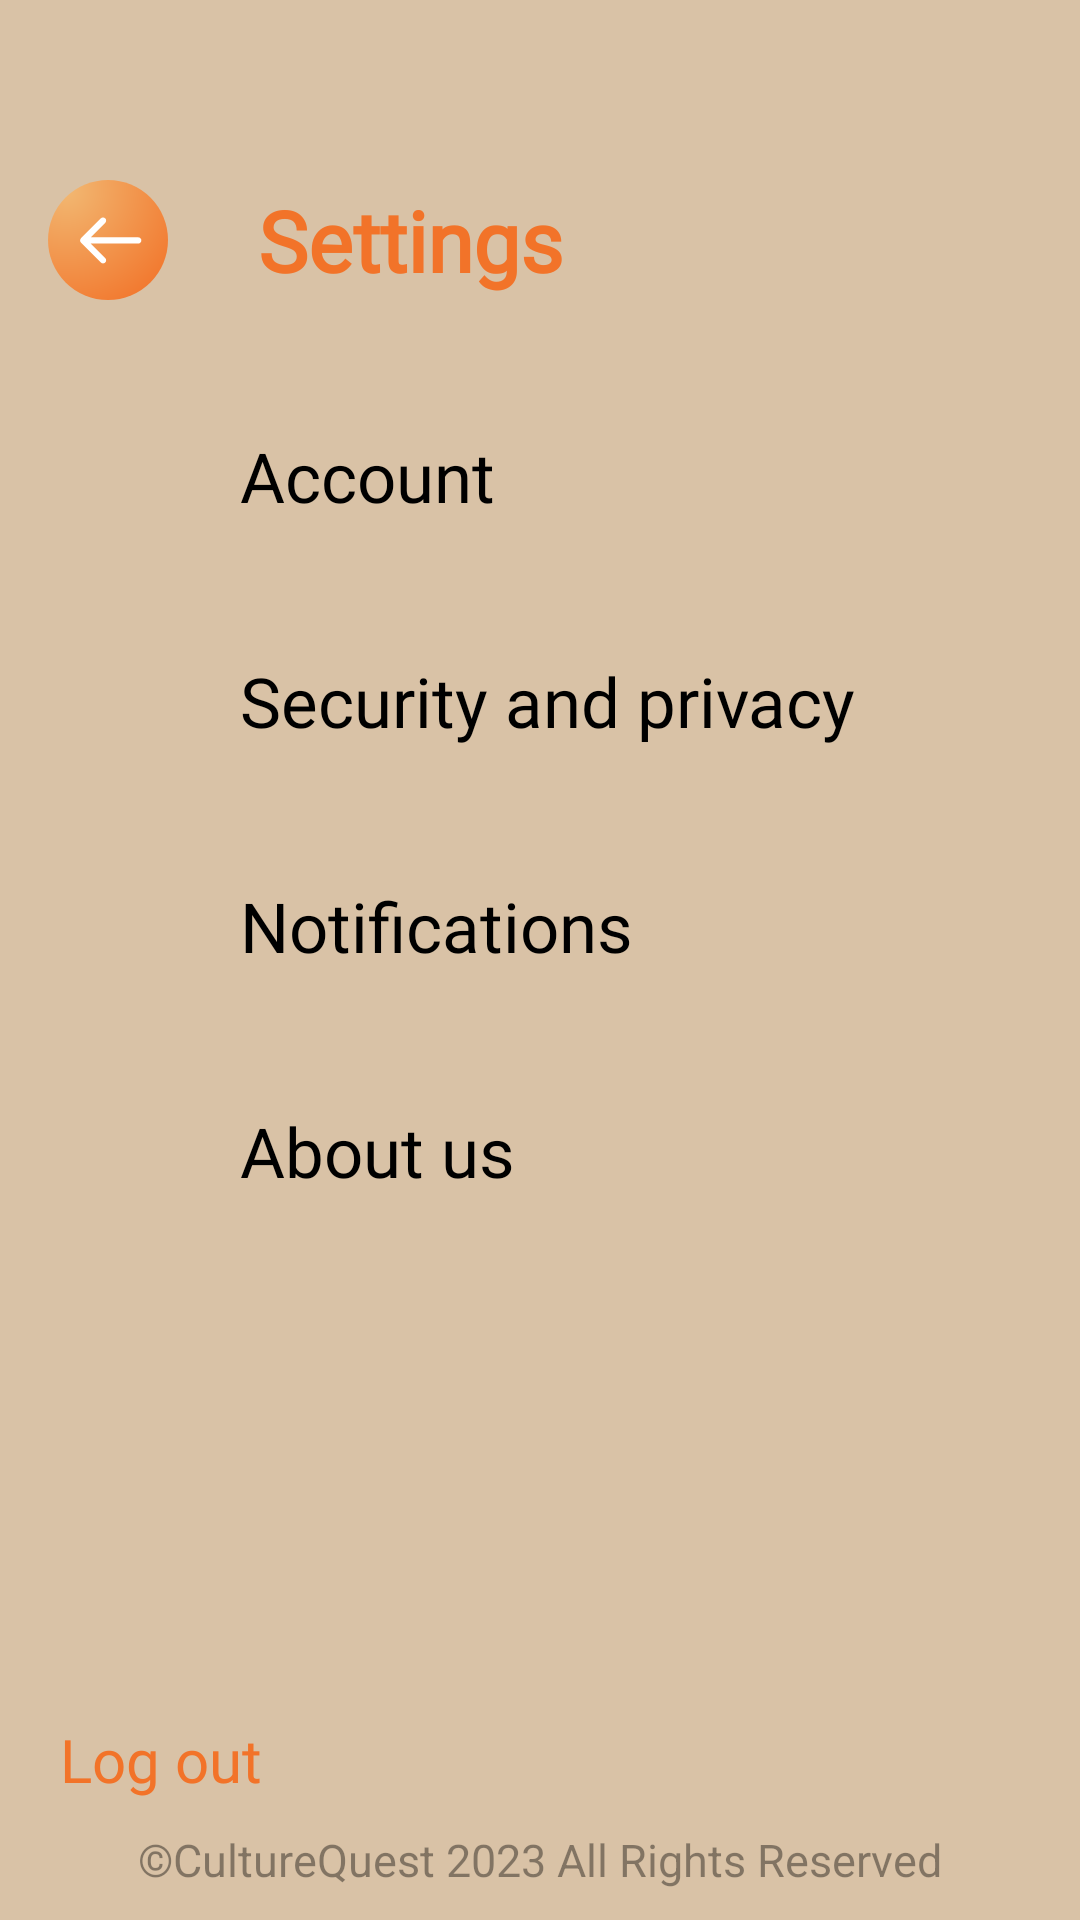

Icon bounding boxes for this 1080x1920 phone screenshot, format {"left": x1, "top": y1, "right": x2, "bottom": y2}:
back: {"left": 48, "top": 180, "right": 168, "bottom": 300}
